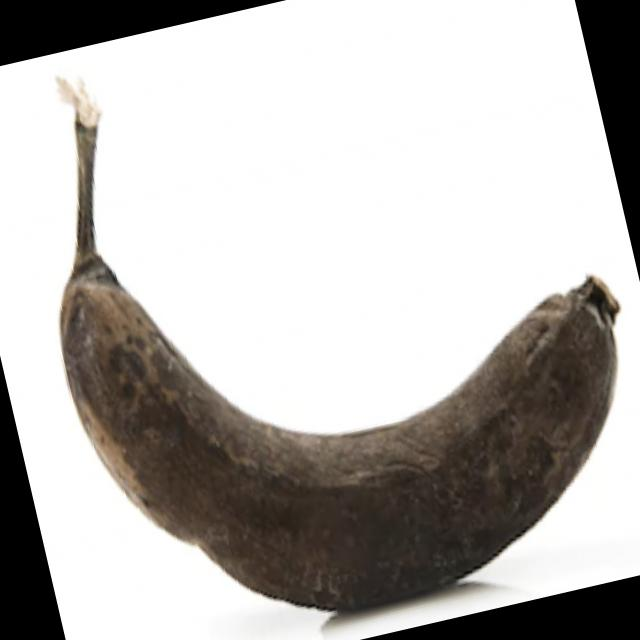rotten-banana: (15, 56, 640, 640)
